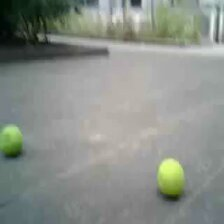tennis: (157, 159, 184, 194), (1, 124, 22, 157)
